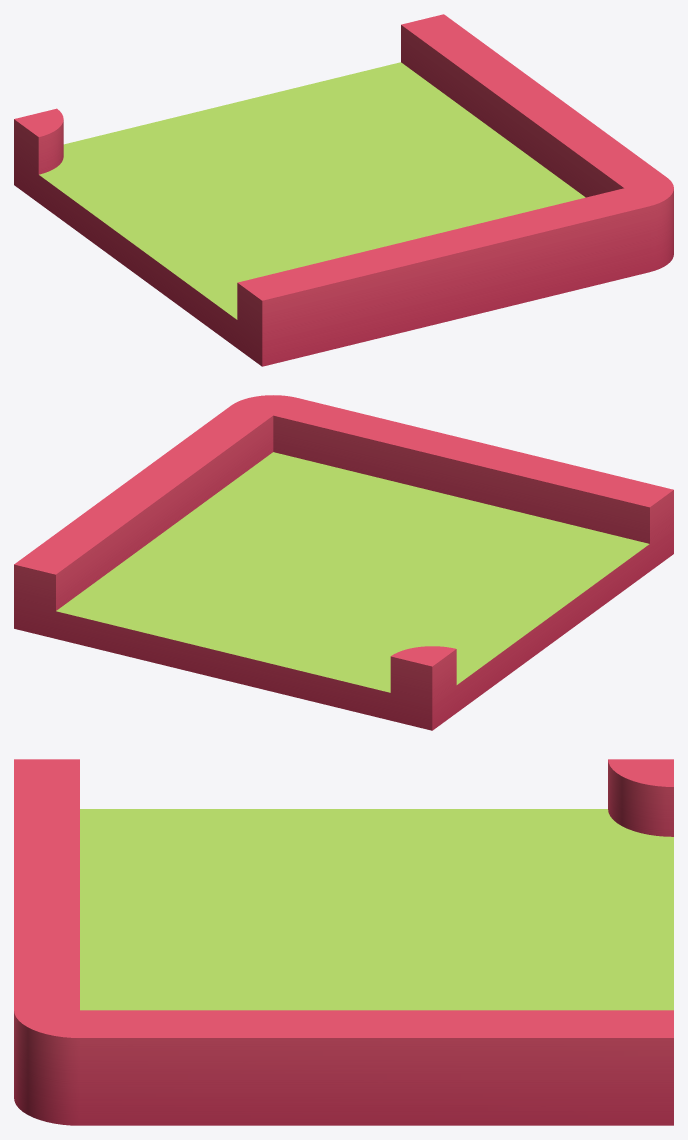
The model's file is square-corner-a.gltf.
3 views of the same model, one above another, from view 1: azimuth 30°, elevation 25°; view 2: azimuth 150°, elevation 25°; view 3: azimuth 270°, elevation 25° (orthographic). The views are drawn at different scales.
Visible parts, largest first — view 1: square-corner-a; view 2: square-corner-a; view 3: square-corner-a.
Part boxes in pixels (left/top/right/bottom): square-corner-a: left=14, top=14, right=673, bottom=366; square-corner-a: left=14, top=395, right=673, bottom=730; square-corner-a: left=14, top=759, right=673, bottom=1125.
Bounding box in the file's own units: 0.9999 × 0.1467 × 0.9999.
1 material, 1 textured.
